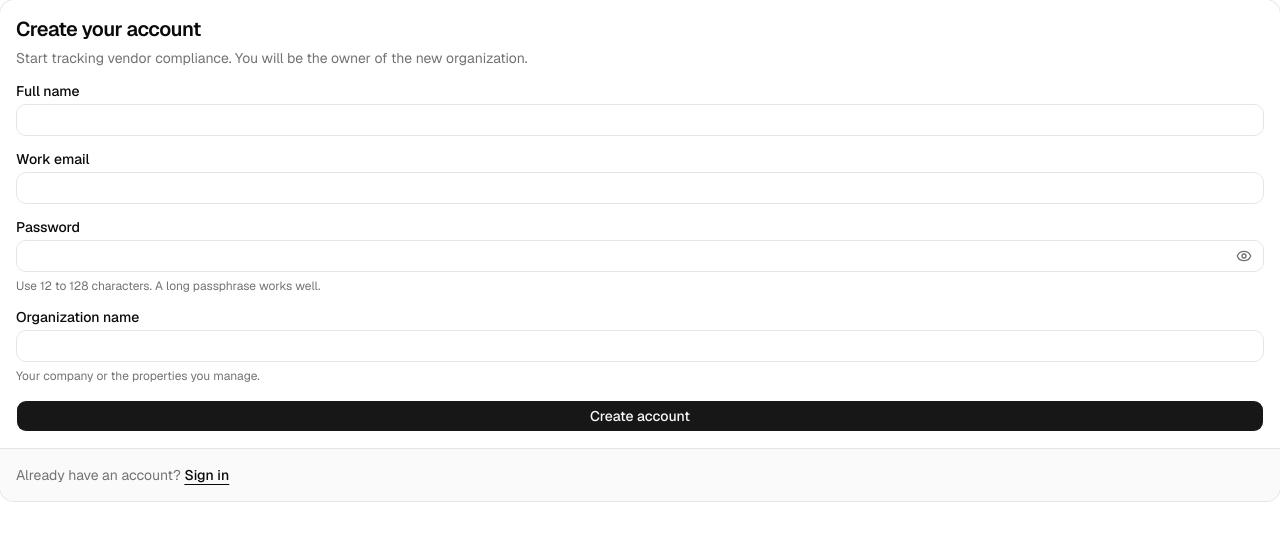
it: SignupForm › maps a 409 to an email field error
This screenshot has width=1280, height=541.
Type "Sam Rivera" into the field labelled "Full name" at [640, 120], box [16,104,1264,136]
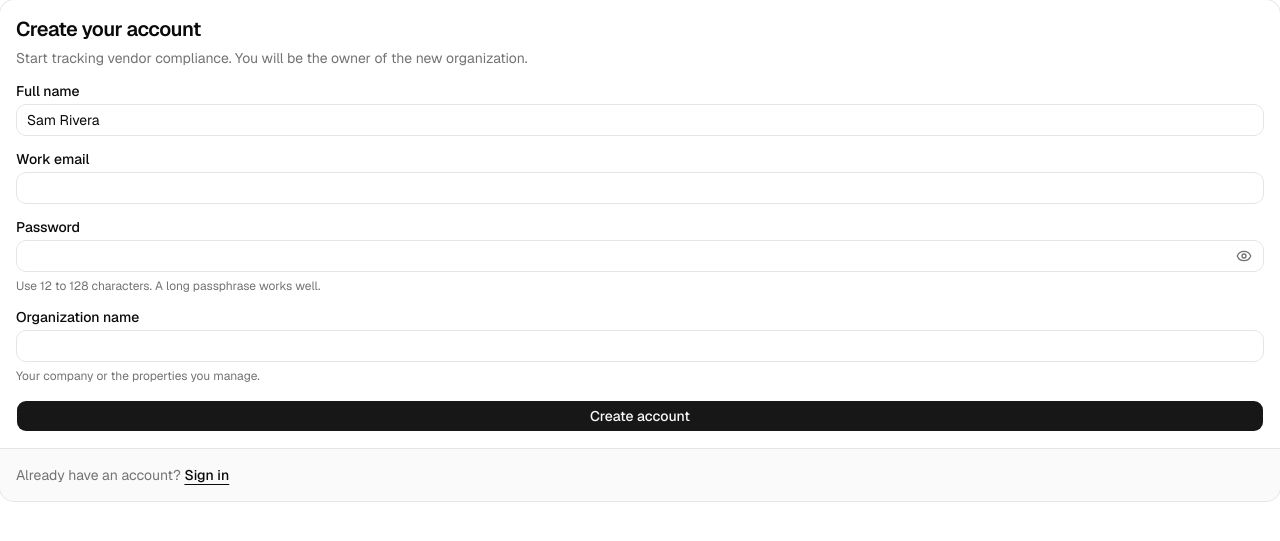
Type "sam@example.com" into the field labelled "Work email" at [640, 188], box [16,172,1264,204]
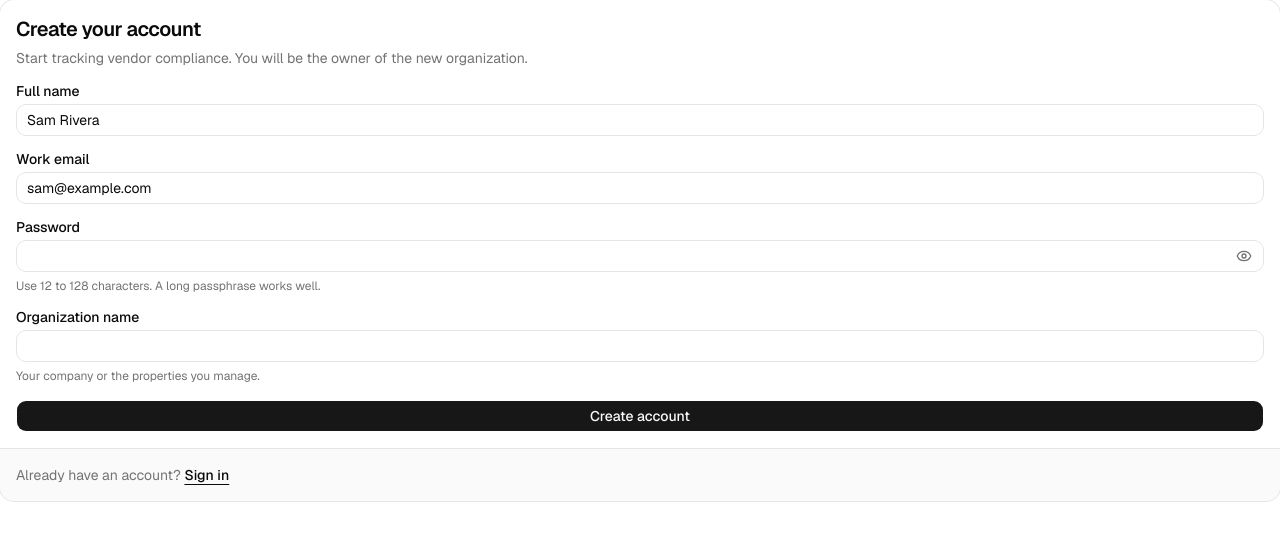
Type "a-long-passphrase-123" into the password field labelled "Password" at [640, 256], box [16,240,1264,272]
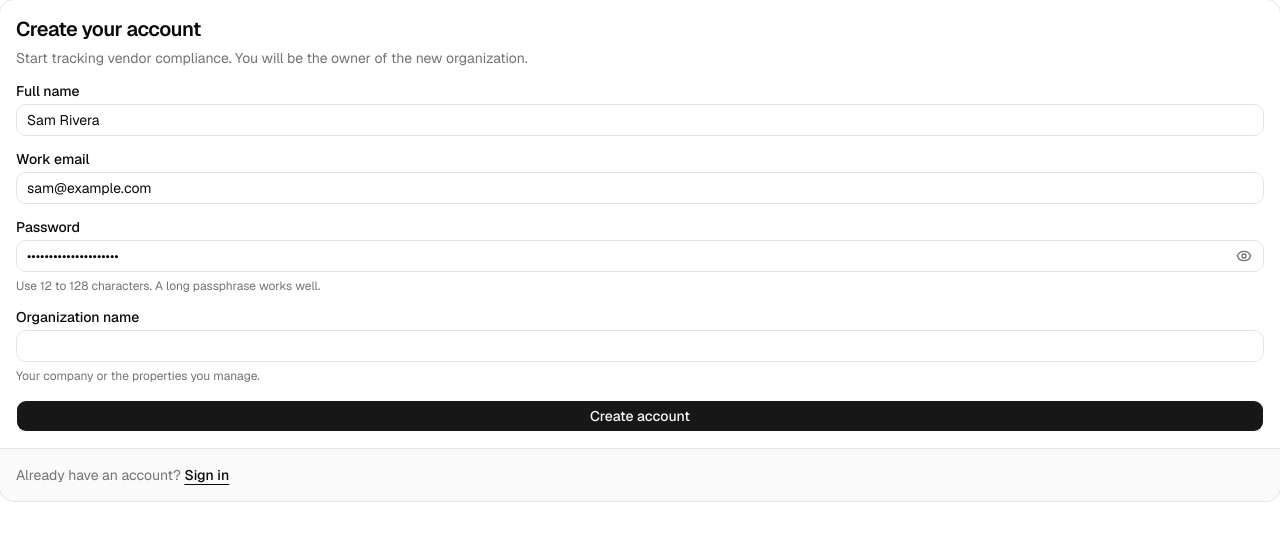
Type "Acme HOA" into the field labelled "Organization name" at [640, 346], box [16,330,1264,362]
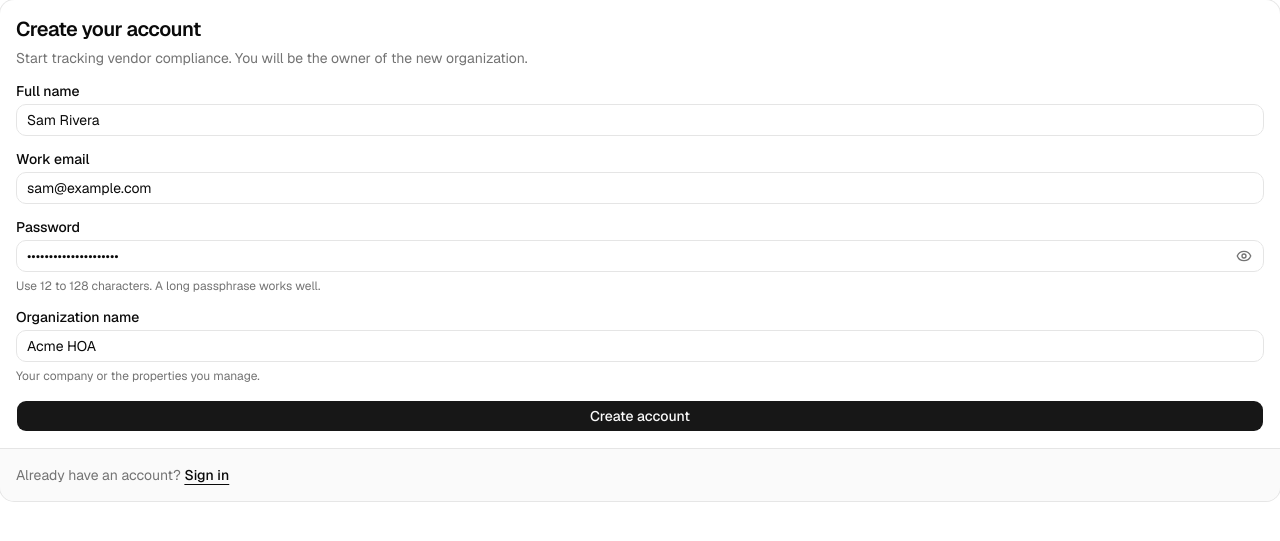
Click the button "Create account" at [640, 416], box [16,400,1264,432]
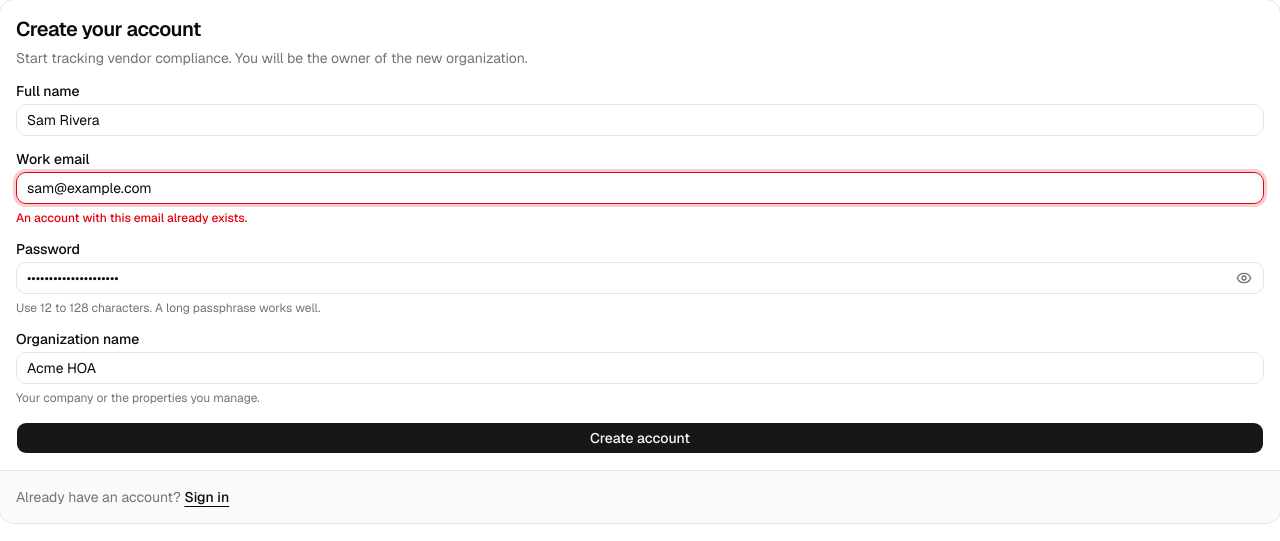
Expected: the text "An account with this email already exists." is shown, [16,210,247,226]
